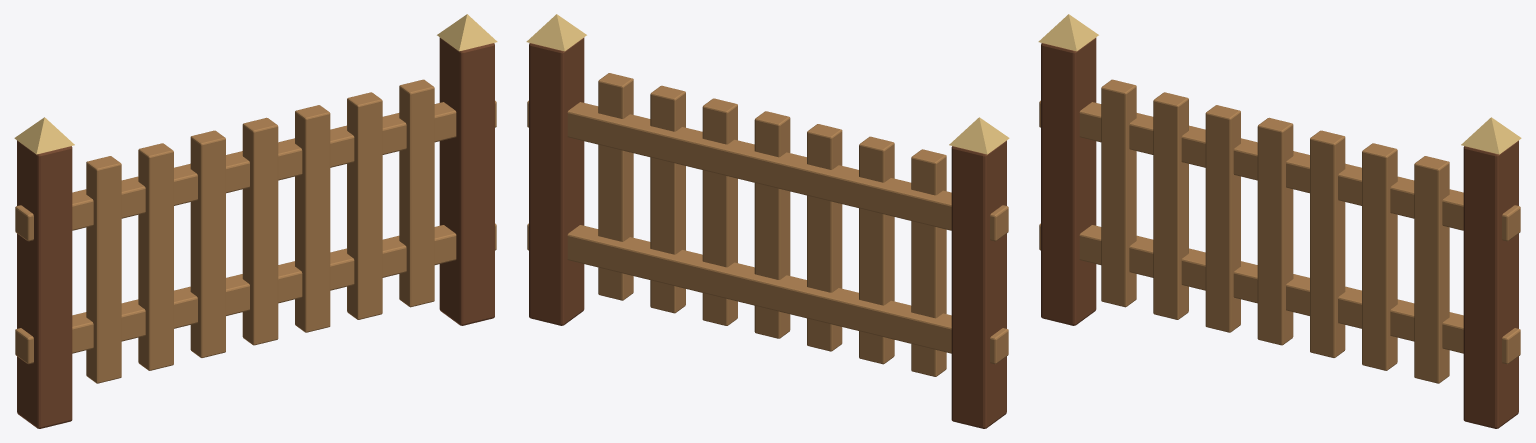
The model's file is fence.glb.
The picture shows the model from 3 angles, left to right: view 1: azimuth 30°, elevation 25°; view 2: azimuth 150°, elevation 25°; view 3: azimuth 330°, elevation 25°; orthographic projection.
Visible parts, largest first — view 1: fence; view 2: fence; view 3: fence.
Boxes of the visible parts, left/top/right/bottom form: fence: left=14, top=14, right=497, bottom=428; fence: left=526, top=14, right=1009, bottom=428; fence: left=1038, top=14, right=1521, bottom=428.
Size of the model in its own units: 2.4 by 1.47 by 0.2.
